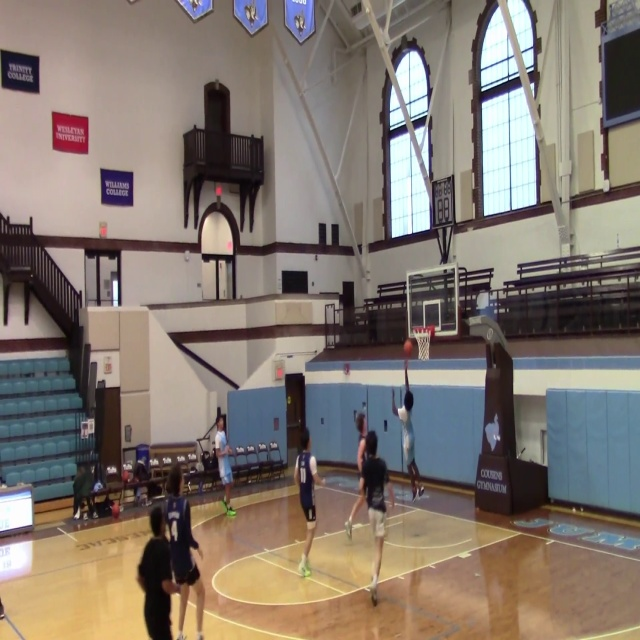Basketball: (403, 339, 413, 357)
